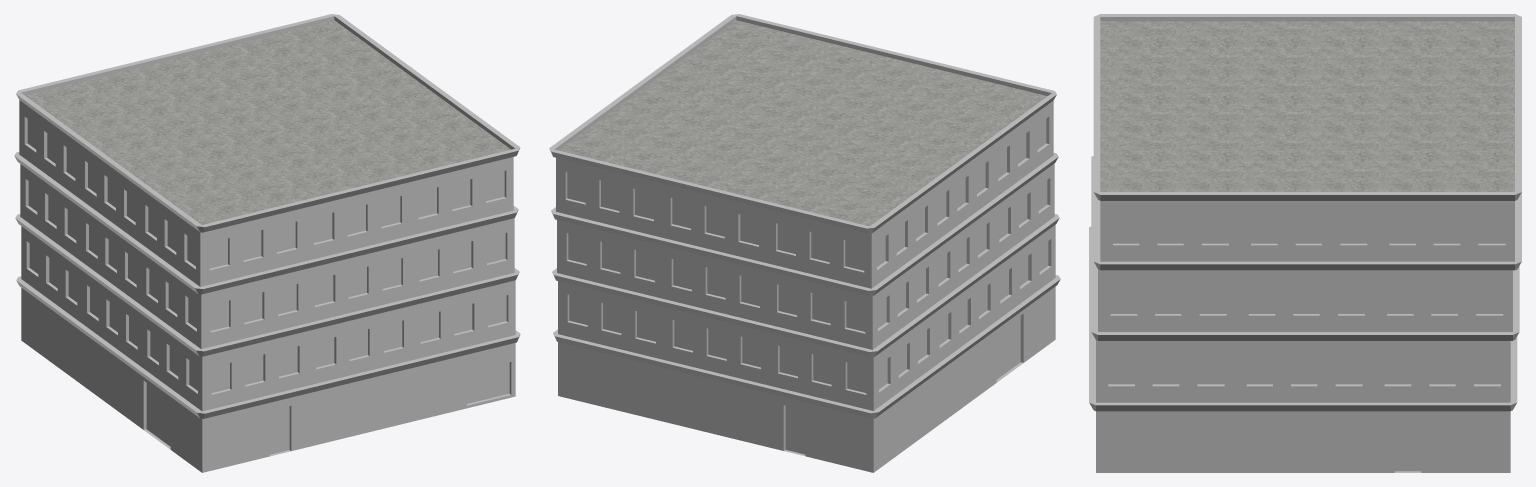
File: RV_Building_Type_A_00.fbx
3 renders of one model, left to right at view 1: azimuth 30°, elevation 25°; view 2: azimuth 150°, elevation 25°; view 3: azimuth 270°, elevation 25°, orthographic. The views are drawn at different scales.
Parts seen in each view (by area): view 1: RV_Building_Type_A_00; view 2: RV_Building_Type_A_00; view 3: RV_Building_Type_A_00.
Boxes of the visible parts, <box> form: RV_Building_Type_A_00: <box>14,14,520,472</box>; RV_Building_Type_A_00: <box>549,14,1060,472</box>; RV_Building_Type_A_00: <box>1089,14,1521,472</box>.
Size of the model in its own units: 1595 by 1152 by 1603.
